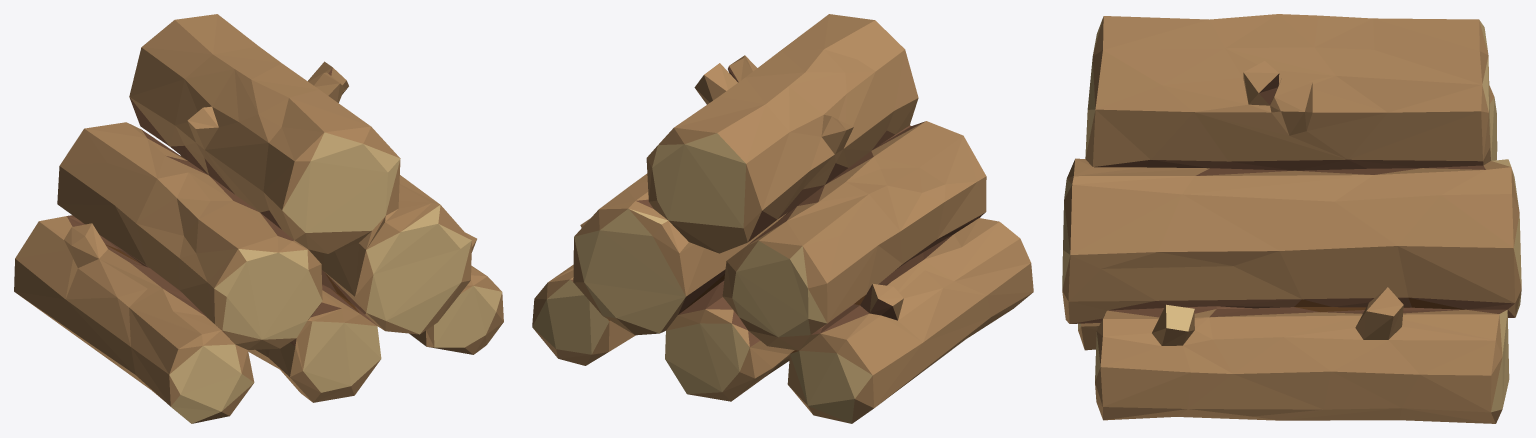
The model's file is prop_log_pile.glb.
3 renders of one model, left to right at view 1: azimuth 30°, elevation 25°; view 2: azimuth 150°, elevation 25°; view 3: azimuth 270°, elevation 25°, orthographic. The views are drawn at different scales.
Visible parts, largest first — view 1: PropLogPileBody; view 2: PropLogPileBody; view 3: PropLogPileBody.
Boxes of the visible parts, <box> form: PropLogPileBody: <box>14,14,503,423</box>; PropLogPileBody: <box>532,14,1033,423</box>; PropLogPileBody: <box>1062,14,1521,423</box>.
Bounding box in the file's own units: 1 × 0.7423 × 0.9593.
